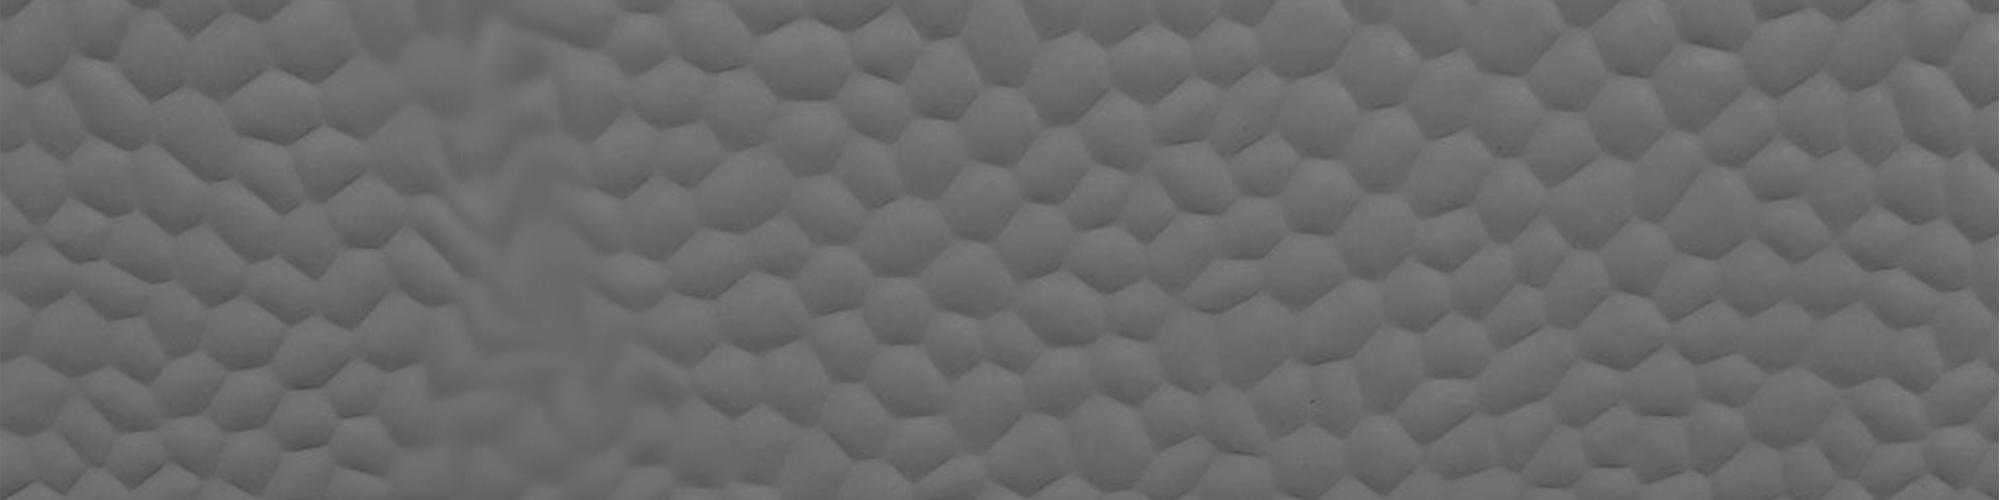Flow_Lines: (379, 6, 624, 500)
